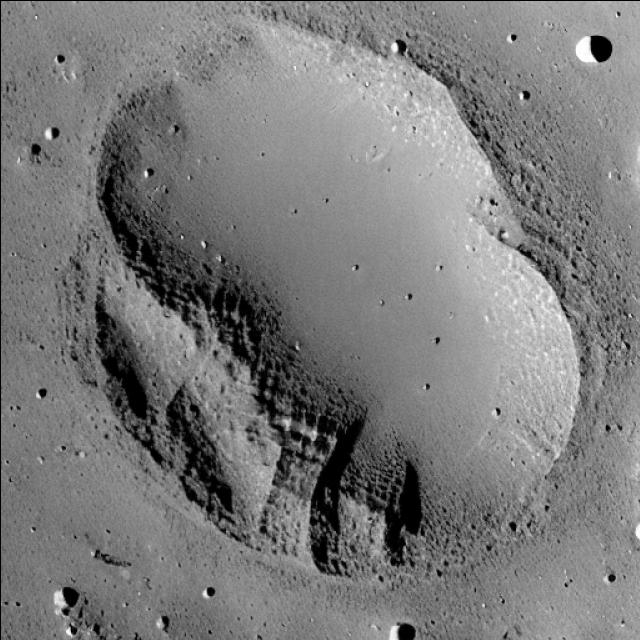crater: (72, 12, 580, 578)
